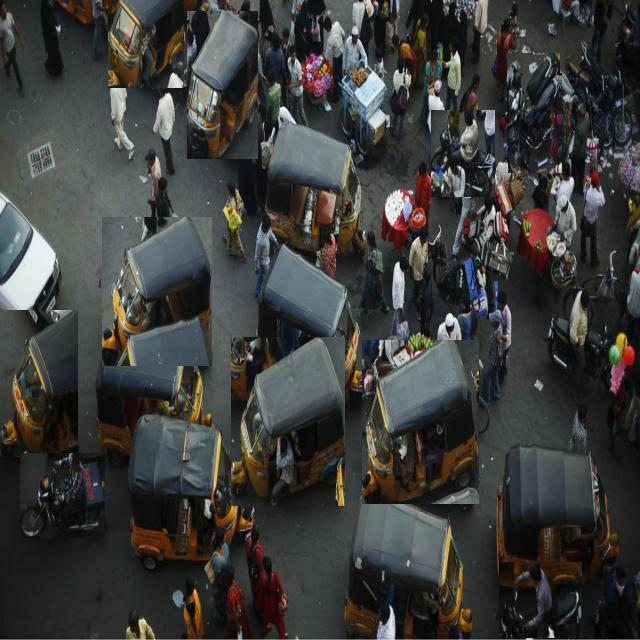autorickshaw: (362, 340, 479, 504), (345, 487, 472, 638), (231, 338, 345, 506), (129, 416, 252, 568), (256, 244, 369, 404), (496, 444, 619, 588), (95, 318, 211, 466), (102, 218, 212, 366), (266, 124, 364, 254), (0, 311, 78, 457), (188, 11, 258, 159), (109, 0, 184, 88)
car: (0, 191, 61, 328)
motorcycle: (20, 453, 105, 538), (499, 562, 582, 638), (548, 291, 612, 381), (581, 42, 635, 148), (431, 111, 495, 197), (508, 74, 562, 173), (508, 53, 560, 139)
